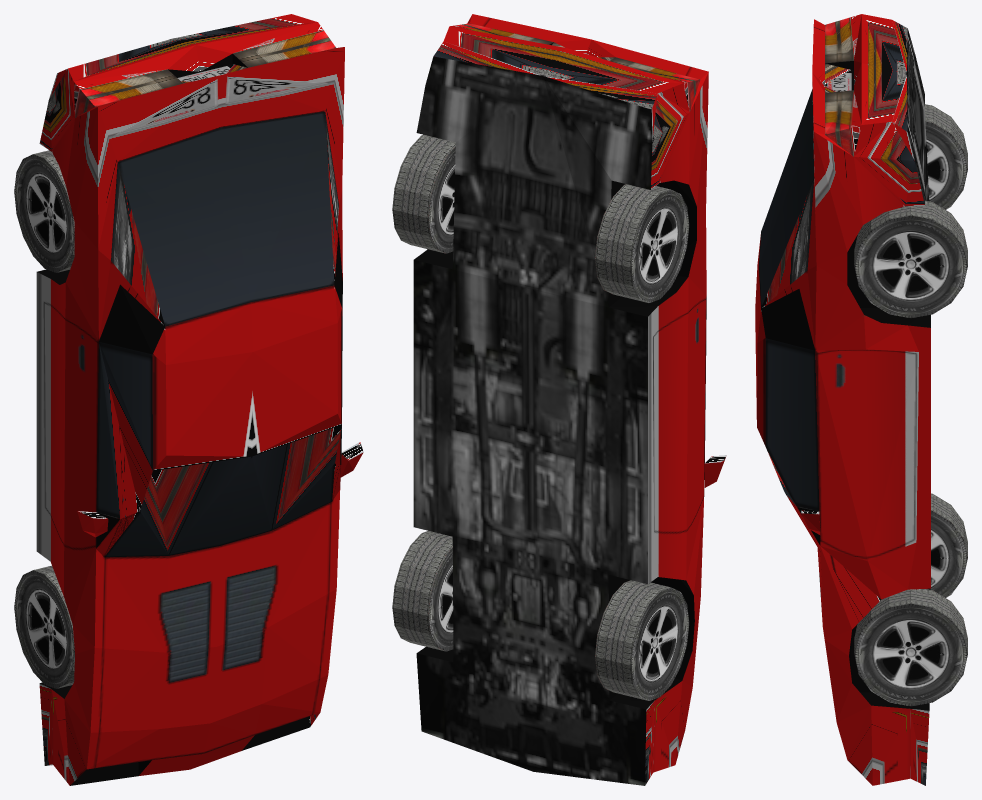
File: vehiclelow_wtf.obj
3 renders of one model, left to right at view 1: azimuth 30°, elevation 25°; view 2: azimuth 150°, elevation 25°; view 3: azimuth 270°, elevation 25°, orthographic. The views are drawn at different scales.
Visible parts, largest first — view 1: group1, group2, group3, group6; view 2: group1, group2, group3, group5, group4, group6; view 3: group1, group4, group5, group3, group2, group6.
Part boxes in pixels (x1=…): group1: x1=36, y1=14, x2=363, y2=785; group2: x1=14, y1=565, x2=74, y2=688; group3: x1=14, y1=150, x2=74, y2=272; group6: x1=74, y1=22, x2=335, y2=106; group1: x1=413, y1=14, x2=726, y2=785; group2: x1=595, y1=580, x2=689, y2=700; group3: x1=595, y1=184, x2=689, y2=303; group5: x1=392, y1=134, x2=455, y2=253; group4: x1=392, y1=530, x2=453, y2=651; group6: x1=450, y1=23, x2=699, y2=83; group1: x1=755, y1=14, x2=930, y2=785; group4: x1=854, y1=589, x2=967, y2=706; group5: x1=854, y1=200, x2=967, y2=318; group3: x1=925, y1=104, x2=967, y2=209; group2: x1=930, y1=493, x2=967, y2=597; group6: x1=825, y1=14, x2=861, y2=134.
Size of the model in its own units: 267 by 660 by 186.
